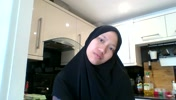Hand: (44, 22, 92, 89)
